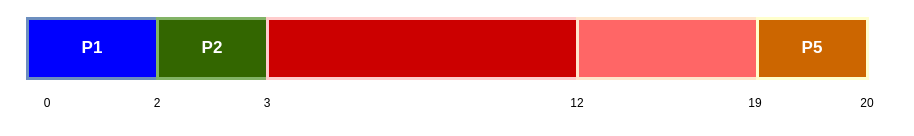
The diagram is 914 pixels wide and 136 high, and some of its shapes have lost their labels. The centre of each missing label's shape, as x and y in pixels:
"P3" belongs at [422,48].
"P4" belongs at [667,48].
